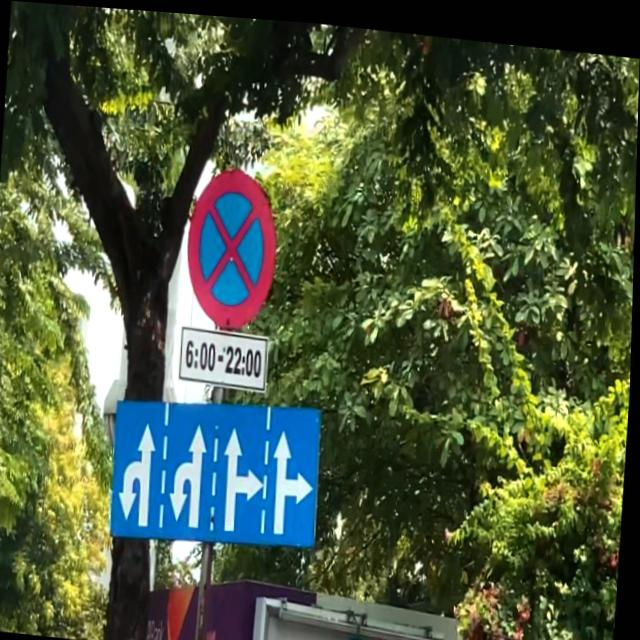Cam dung xe va do xe: (183, 160, 282, 329)
